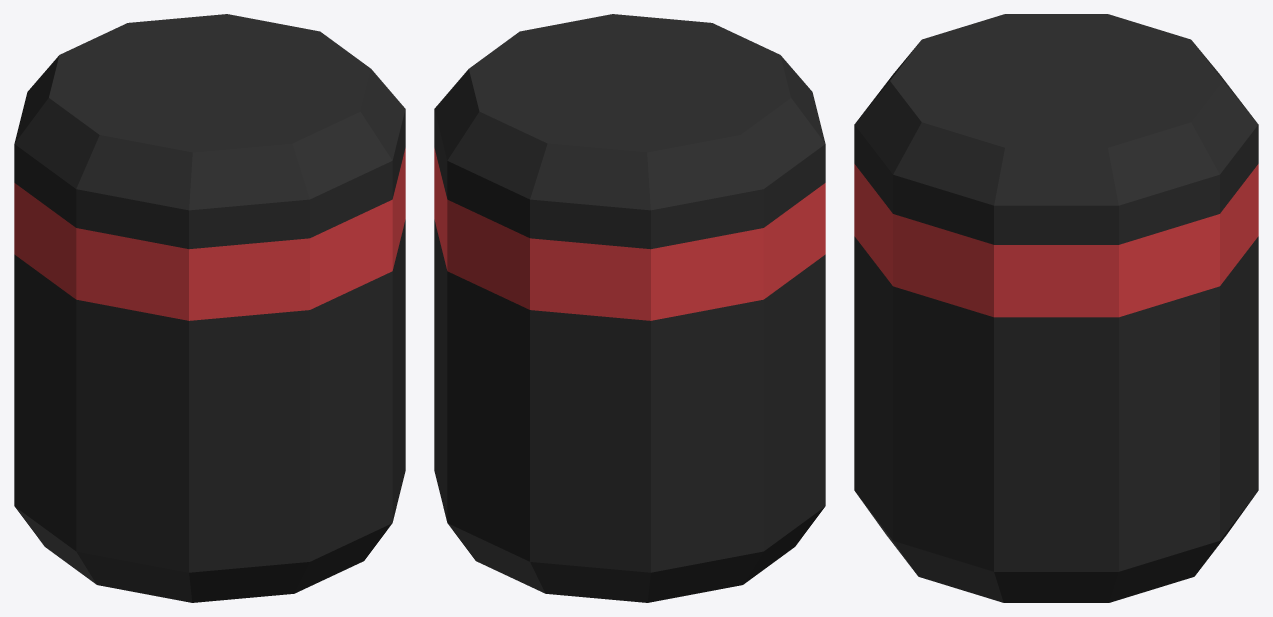
The model's file is SM_Player.001.fbx.
The picture shows the model from 3 angles, left to right: view 1: azimuth 30°, elevation 25°; view 2: azimuth 150°, elevation 25°; view 3: azimuth 270°, elevation 25°; orthographic projection.
Visible parts, largest first — view 1: SM_Player.001; view 2: SM_Player.001; view 3: SM_Player.001.
Boxes of the visible parts, bbox=[...] form: SM_Player.001: bbox=[14, 14, 405, 602]; SM_Player.001: bbox=[434, 14, 825, 602]; SM_Player.001: bbox=[854, 14, 1258, 602].
Size of the model in its own units: 0.1902 by 0.2 by 0.2477.
